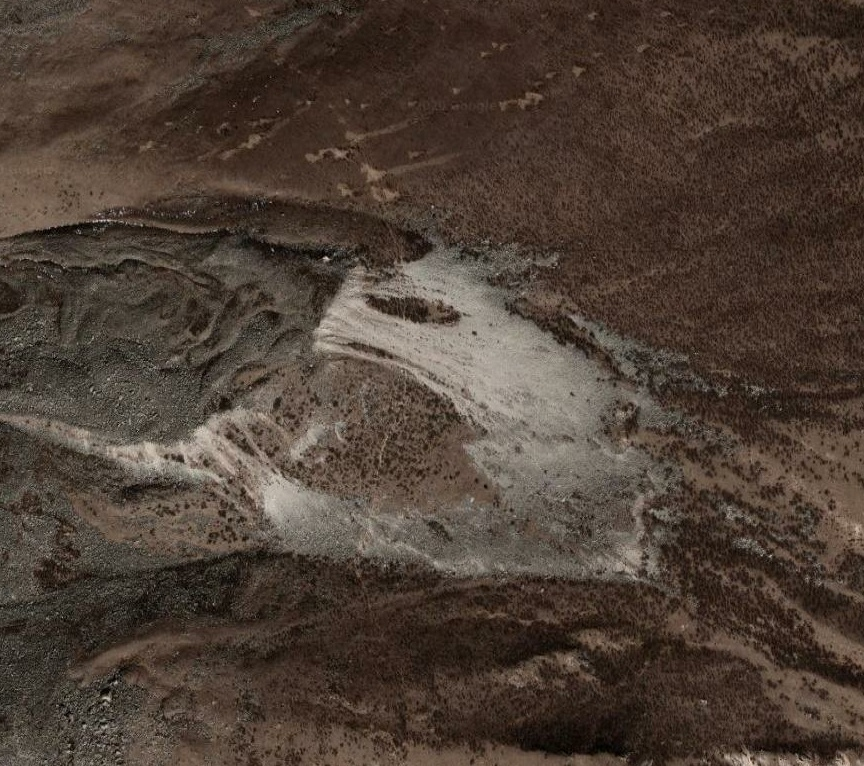slope: (109, 235, 673, 583)
